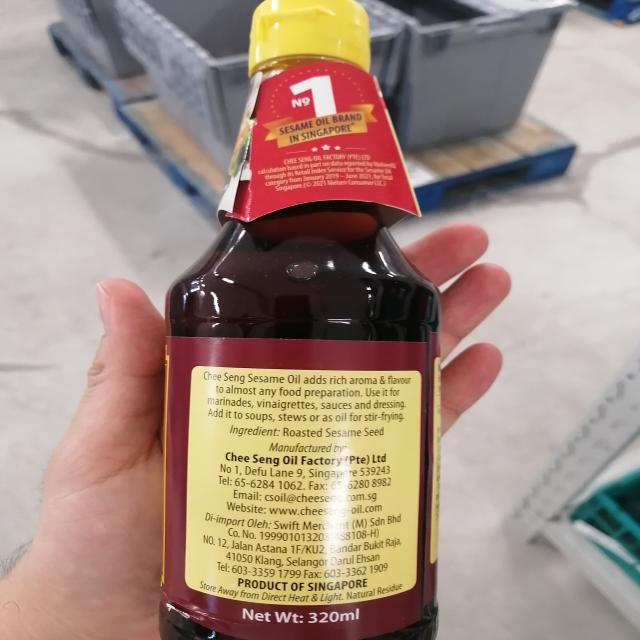object_name: (181, 7, 437, 640)
